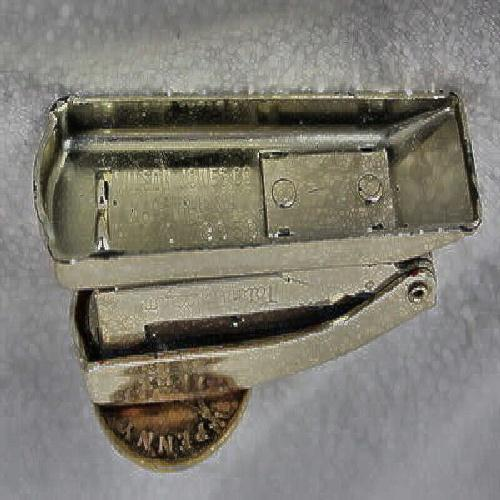stapler: (44, 100, 482, 449)
